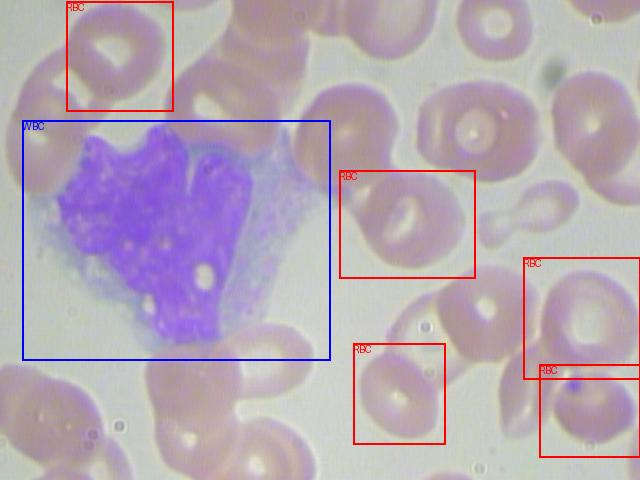RBC: (339, 170, 475, 278), (523, 257, 640, 379), (66, 1, 173, 111), (539, 364, 640, 457), (353, 343, 445, 444)
WBC: (22, 120, 330, 360)
